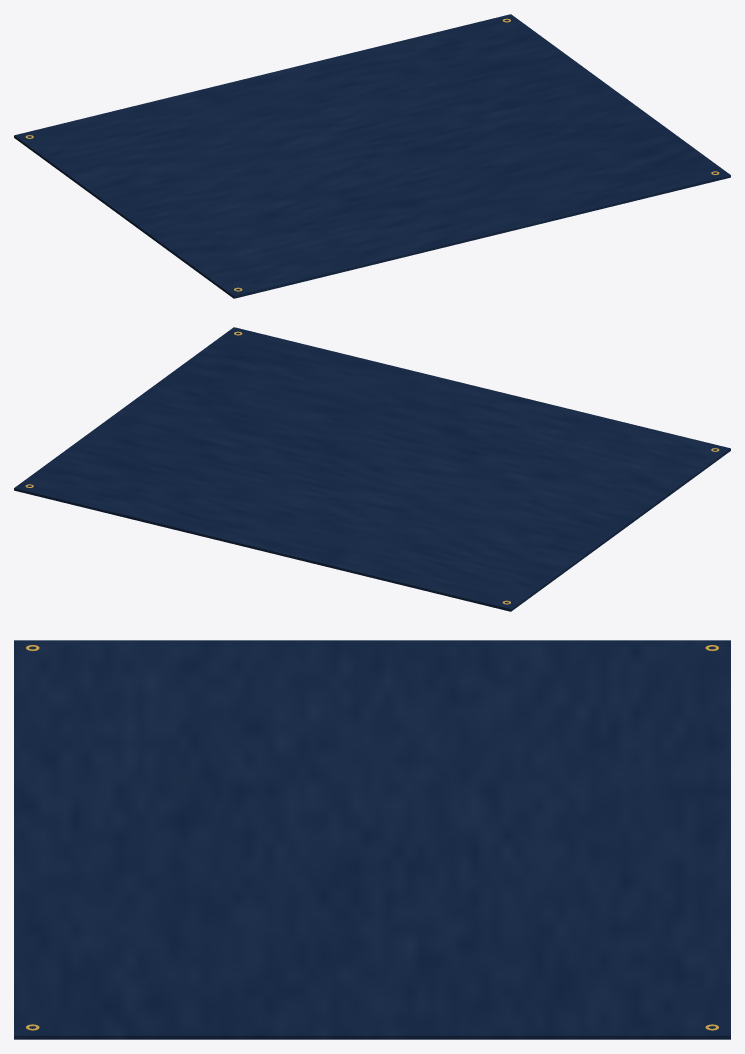
File: 329_L124_PCB_Main.obj
3 views of the same model, one above another, from view 1: azimuth 30°, elevation 25°; view 2: azimuth 150°, elevation 25°; view 3: azimuth 270°, elevation 25° (orthographic). The views are drawn at different scales.
Visible parts, largest first — view 1: 329_L124_PCB_Main__PSMAT__pcb; view 2: 329_L124_PCB_Main__PSMAT__pcb; view 3: 329_L124_PCB_Main__PSMAT__pcb.
Boxes of the visible parts, x1,y1,x2,y2 form: 329_L124_PCB_Main__PSMAT__pcb: (14, 14, 730, 298); 329_L124_PCB_Main__PSMAT__pcb: (14, 327, 730, 611); 329_L124_PCB_Main__PSMAT__pcb: (14, 640, 730, 1039).
Size of the model in its own units: 0.6 by 0.0031 by 0.46.
3 materials, 3 textured.
